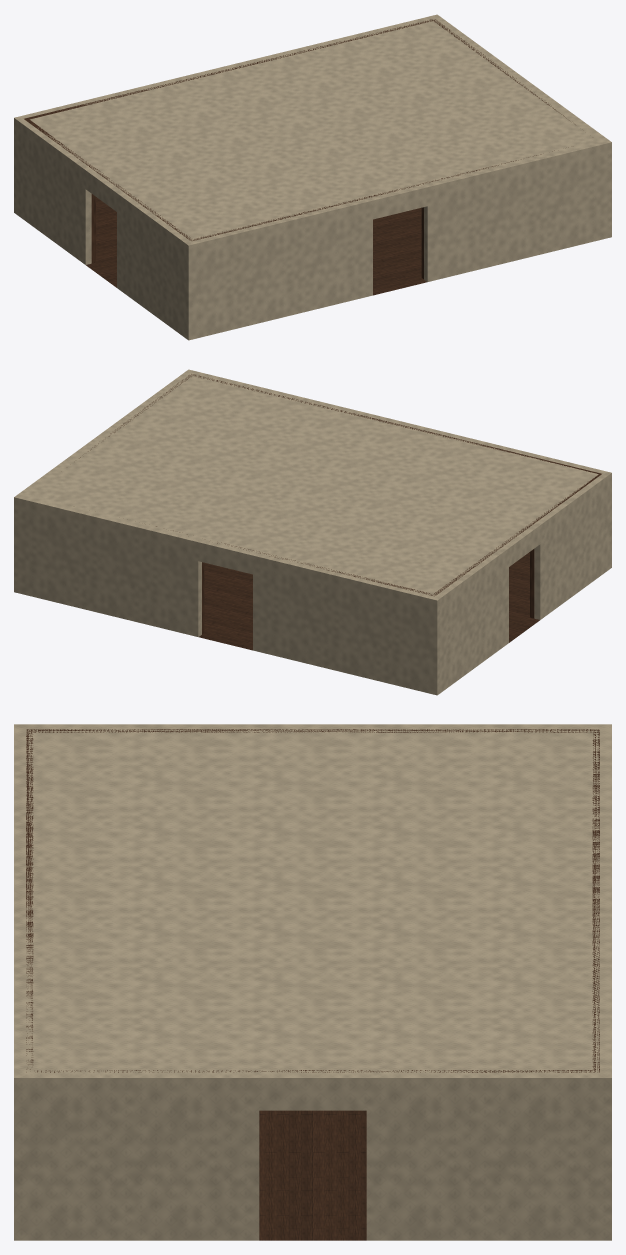
Rendered from LargeRoom.fbx.
The picture shows the model from 3 angles, top to bottom: view 1: azimuth 30°, elevation 25°; view 2: azimuth 150°, elevation 25°; view 3: azimuth 270°, elevation 25°; orthographic projection. The views are drawn at different scales.
Visible parts, largest first — view 1: SM_LargeRoom.001; view 2: SM_LargeRoom.001; view 3: SM_LargeRoom.001.
Boxes of the visible parts, left/top/right/bottom form: SM_LargeRoom.001: left=14, top=14, right=611, bottom=340; SM_LargeRoom.001: left=14, top=369, right=611, bottom=695; SM_LargeRoom.001: left=14, top=724, right=611, bottom=1240.
Bounding box in the file's own units: 1400 × 300 × 1000.
3 materials, 3 textured.
